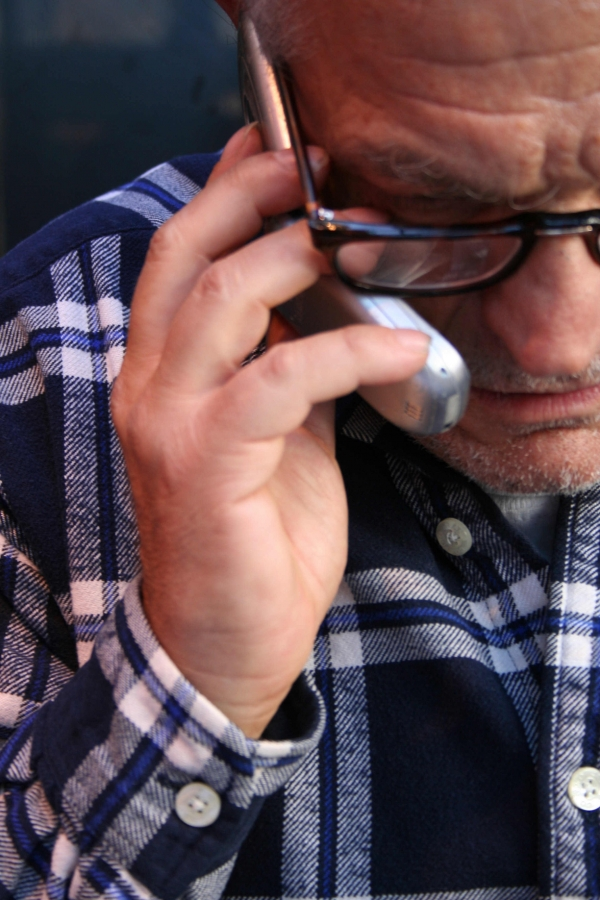phone: (205, 63, 437, 467)
